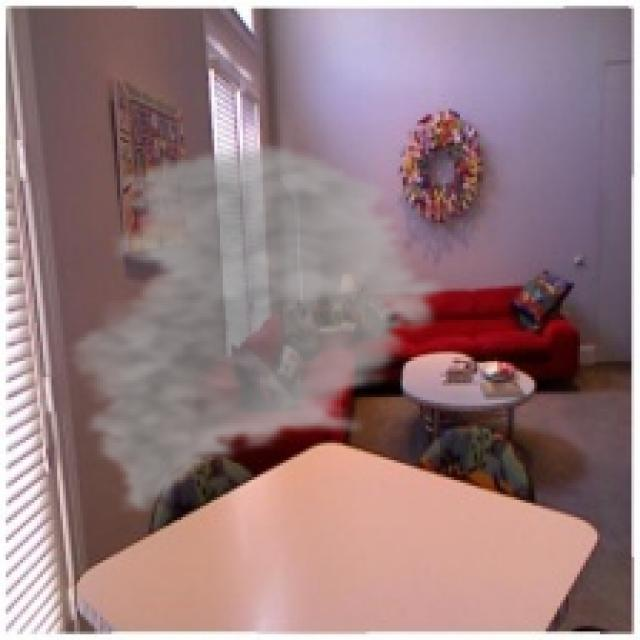Smoke: (59, 140, 452, 517)
